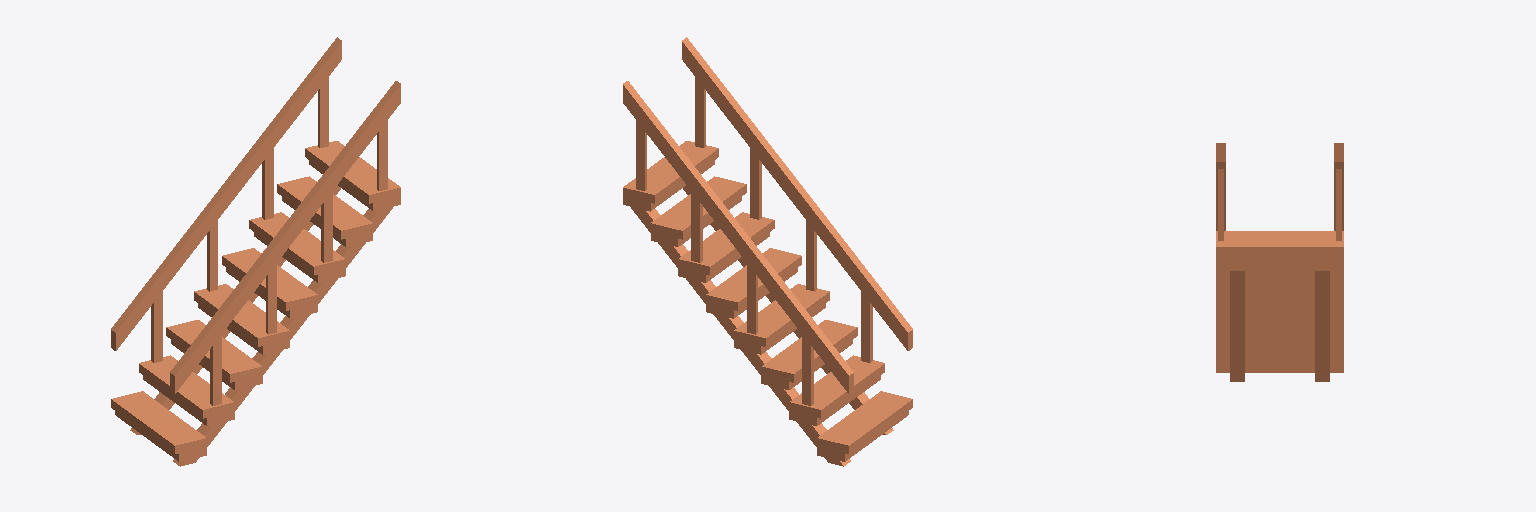
The model's file is stairsWoodHandrail.obj.
3 views of the same model, side by side, from view 1: azimuth 30°, elevation 25°; view 2: azimuth 150°, elevation 25°; view 3: azimuth 270°, elevation 25° (orthographic).
Parts seen in each view (by area): view 1: stairsWoodHandrail, rail; view 2: stairsWoodHandrail, rail; view 3: stairsWoodHandrail, rail.
Part boxes in pixels (x1,y1,x2,y2): stairsWoodHandrail: (111,141,400,466); rail: (111,37,400,405); stairsWoodHandrail: (623,141,912,466); rail: (623,37,912,405); stairsWoodHandrail: (1216,231,1343,381); rail: (1216,143,1343,240).
Bounding box in the file's own units: 1.02 × 1.45 × 0.5.